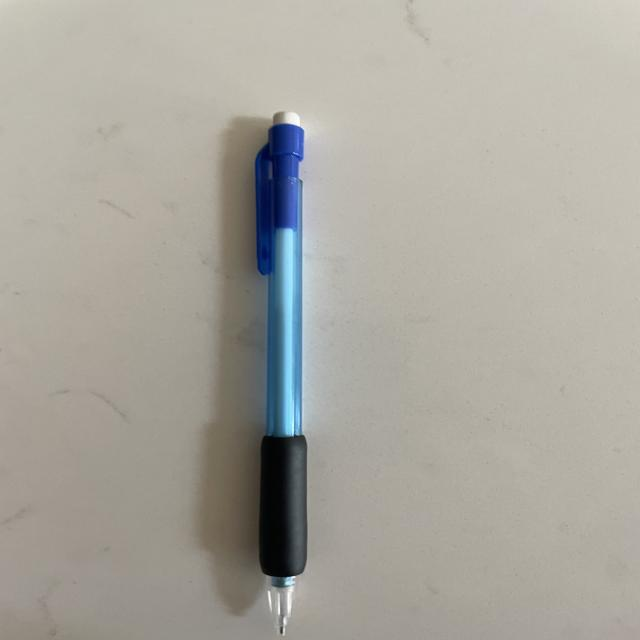mechanical-pencils: (256, 111, 307, 639)
